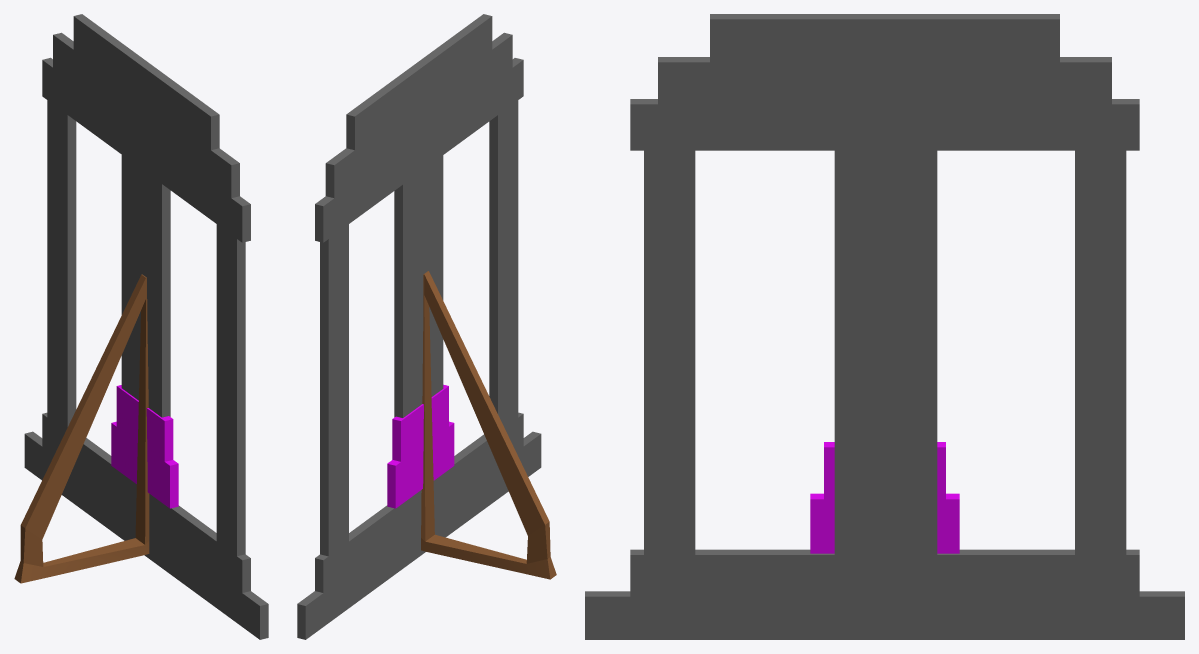
Rendered from Gazeebo_Board.FBX.
The picture shows the model from 3 angles, left to right: view 1: azimuth 30°, elevation 25°; view 2: azimuth 150°, elevation 25°; view 3: azimuth 270°, elevation 25°; orthographic projection. The views are drawn at different scales.
Parts seen in each view (by area): view 1: Box009, Back_Stand003, Box010, Box008, Box006, Box007, Box012, Box013, Box011, Box015, Box014; view 2: Box009, Back_Stand003, Box008, Box010, Box006, Box011, Box012, Box007, Box013, Box015, Box014; view 3: Box009, Box007, Box006, Box011, Box010, Box008, Box012, Box013, Box015, Box014.
Part boxes in pixels (x1,y1,x2,y2): Box009: (121, 122, 170, 513); Back_Stand003: (14, 274, 149, 583); Box010: (216, 192, 245, 568); Box008: (47, 70, 76, 439); Box006: (24, 431, 268, 639); Box007: (42, 412, 250, 596); Box012: (53, 32, 239, 198); Box013: (73, 14, 219, 152); Box011: (42, 57, 250, 242); Box015: (111, 421, 178, 508); Box014: (116, 385, 173, 463); Box009: (394, 123, 443, 514); Back_Stand003: (421, 271, 556, 579); Box008: (320, 195, 348, 568); Box010: (489, 100, 518, 436); Box006: (297, 431, 541, 639); Box011: (315, 58, 523, 242); Box012: (325, 32, 512, 198); Box007: (315, 412, 523, 592); Box013: (346, 14, 492, 152); Box015: (387, 421, 454, 508); Box014: (392, 384, 448, 461); Box009: (834, 110, 937, 554); Box007: (630, 549, 1139, 601); Box006: (585, 591, 1184, 639); Box011: (630, 99, 1139, 150); Box010: (644, 109, 695, 554); Box008: (1075, 109, 1126, 554); Box012: (658, 57, 1111, 108); Box013: (710, 14, 1059, 65); Box015: (810, 493, 959, 553); Box014: (824, 442, 945, 501).
Size of the model in its own units: 20.61 by 70.6 by 61.82.
